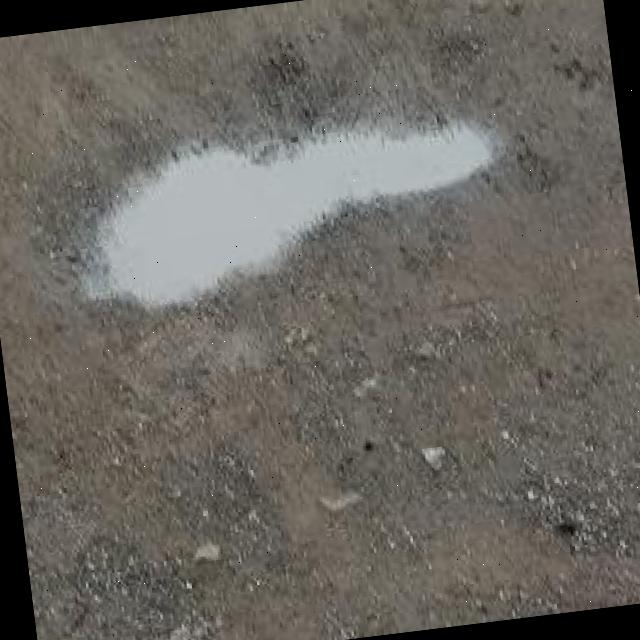stagnation: (71, 85, 559, 311)
